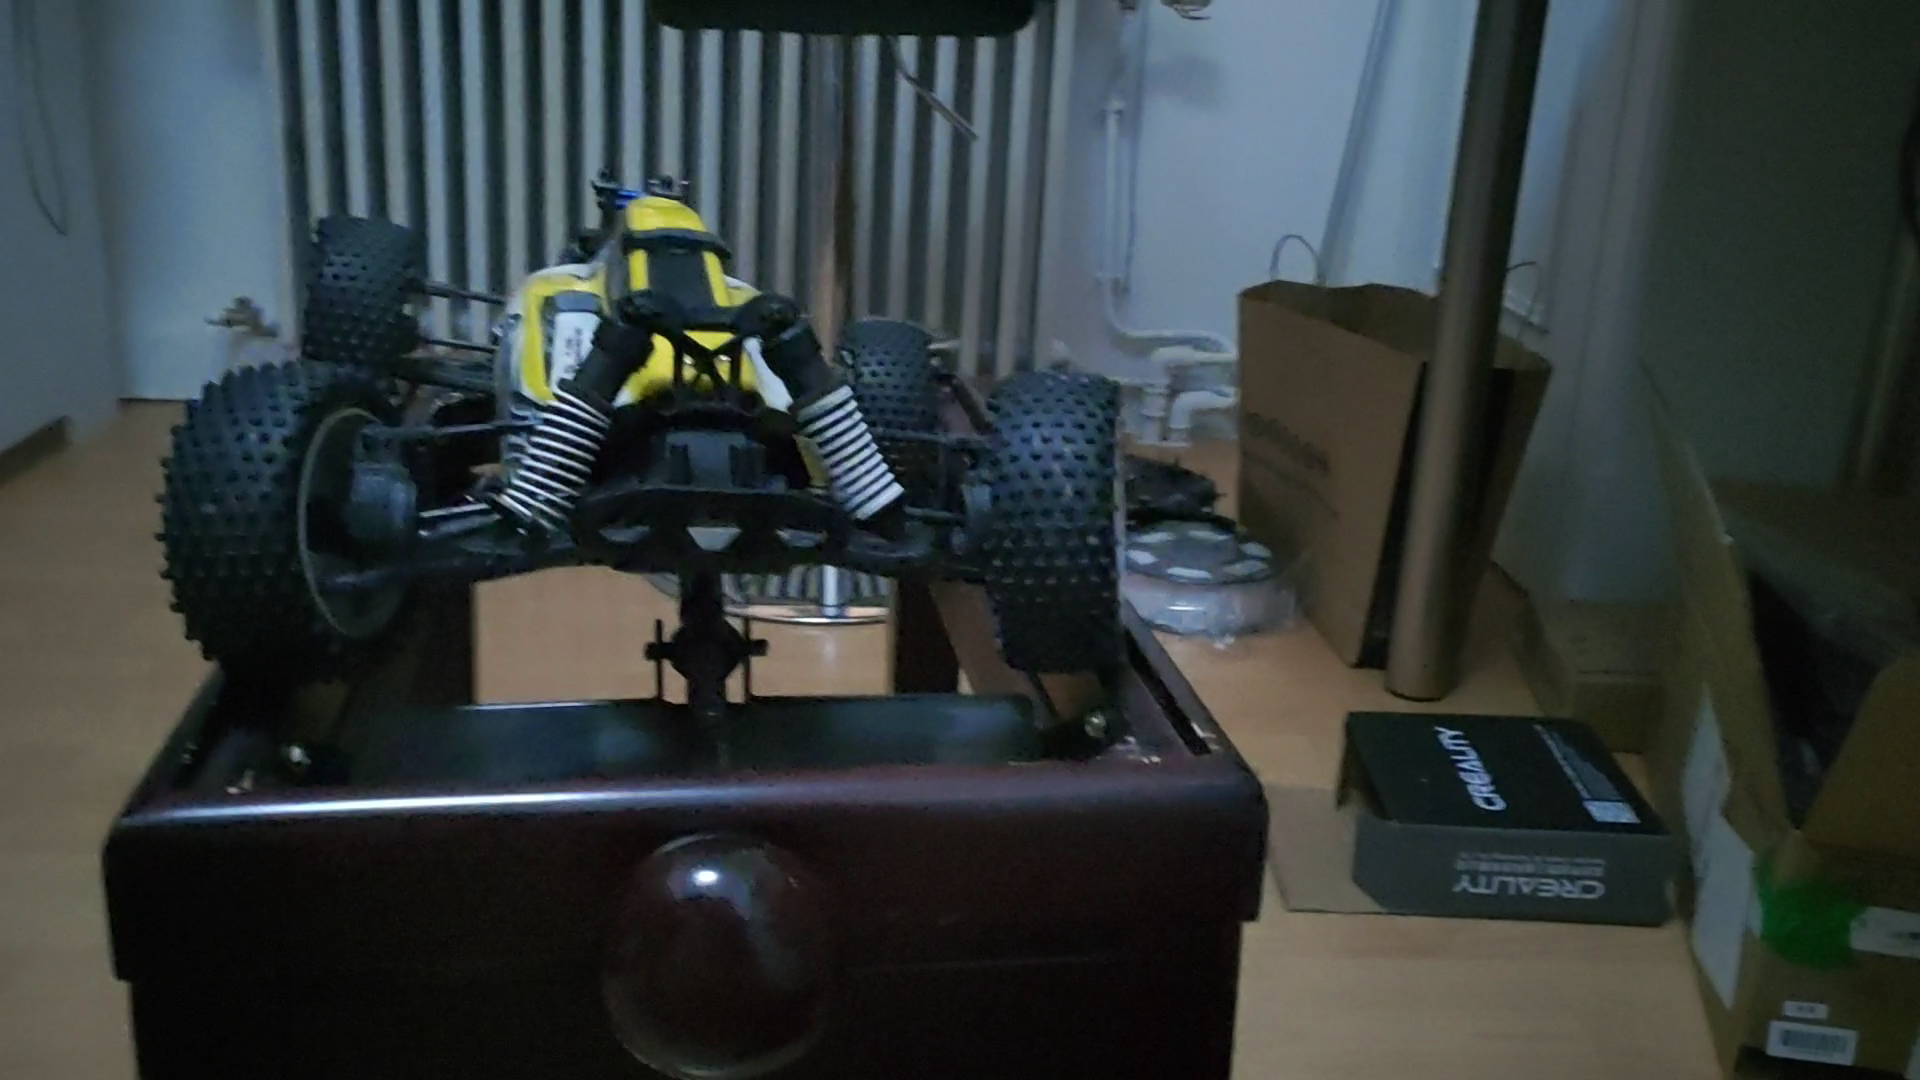buggy: (152, 179, 1118, 680)
